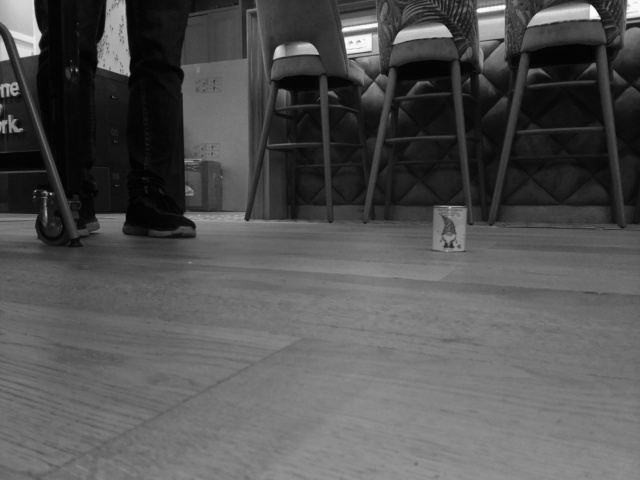gnome: (437, 212, 463, 250)
